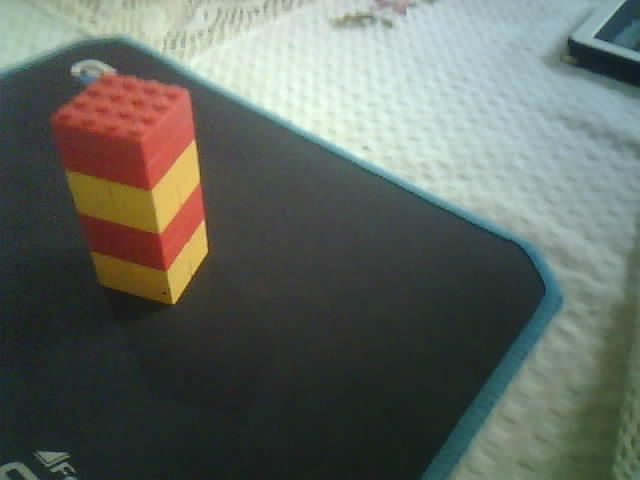lego: (49, 72, 210, 307)
